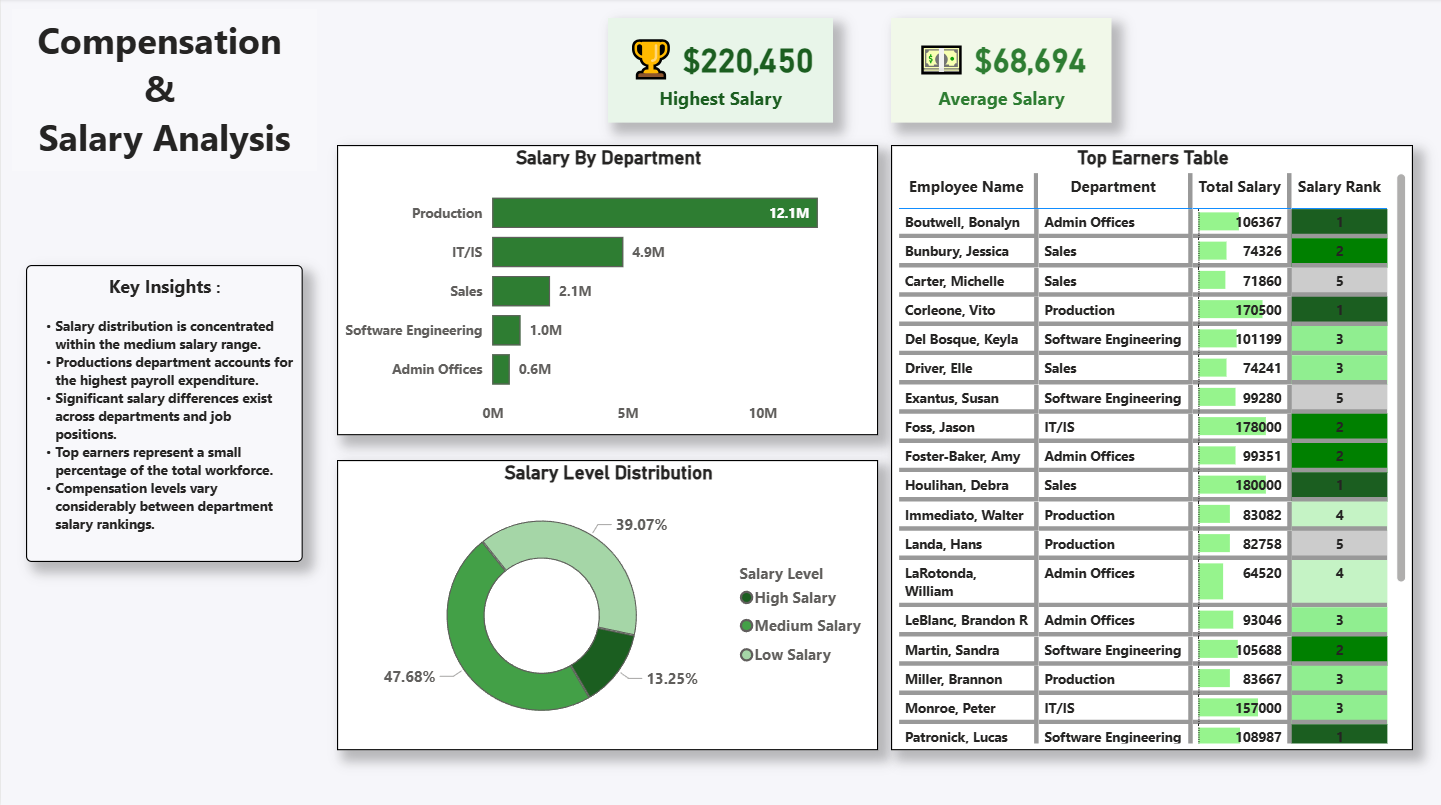

This screenshot's page, from the dashboard's own definition file:
{"tool":"powerbi","page":{"name":"Salary Analysis","canvas":[1280,720],"ordinal":3},"visuals":[{"type":"card","fields":{"Values":["project salary_rankings.Highest Salary"]},"box":[539.6,17.7,200,93.3],"z":0},{"type":"card","fields":{"Values":["project salary_rankings.Average_Salary"]},"box":[791.1,17.7,196.4,93.3],"z":1000},{"type":"barChart","title":"Salary By Department","fields":{"Category":["project salary_rankings.Department"],"Y":["Sum(project salary_rankings.Salary)"]},"box":[298.7,130.7,480.9,257.8],"z":2000},{"type":"donutChart","title":"Salary Level Distribution","fields":{"Y":["CountNonNull(project salary_rankings.Employee_name)"],"Category":["project salary_rankings.salary_level"]},"box":[298.7,410.7,480.9,257.8],"z":3000},{"type":"tableEx","title":"Top Earners Table","fields":{"Values":["project salary_rankings.Employee_name","project salary_rankings.Department","Sum(project salary_rankings.Salary)","Sum(project salary_rankings.salary_rank)"]},"box":[791.1,130.7,464,537.8],"z":4000},{"type":"textbox","box":[9.8,9.8,271.1,144],"z":5000},{"type":"textbox","box":[22,237.1,246.3,263.7],"z":6000}]}

Visuals, with their boxes in screenshot pixels (x1, y1, x2, y2), scaled from the page's 1280x720 canvas onto the 1441x805 screenshot:
card - project salary_rankings.Highest Salary: x1=607, y1=20, x2=833, y2=124
card - project salary_rankings.Average_Salary: x1=891, y1=20, x2=1112, y2=124
"Salary By Department" barChart: x1=336, y1=146, x2=878, y2=434
"Salary Level Distribution" donutChart: x1=336, y1=459, x2=878, y2=747
"Top Earners Table" tableEx: x1=891, y1=146, x2=1413, y2=747
textbox: x1=11, y1=11, x2=316, y2=172
textbox: x1=25, y1=265, x2=302, y2=560
